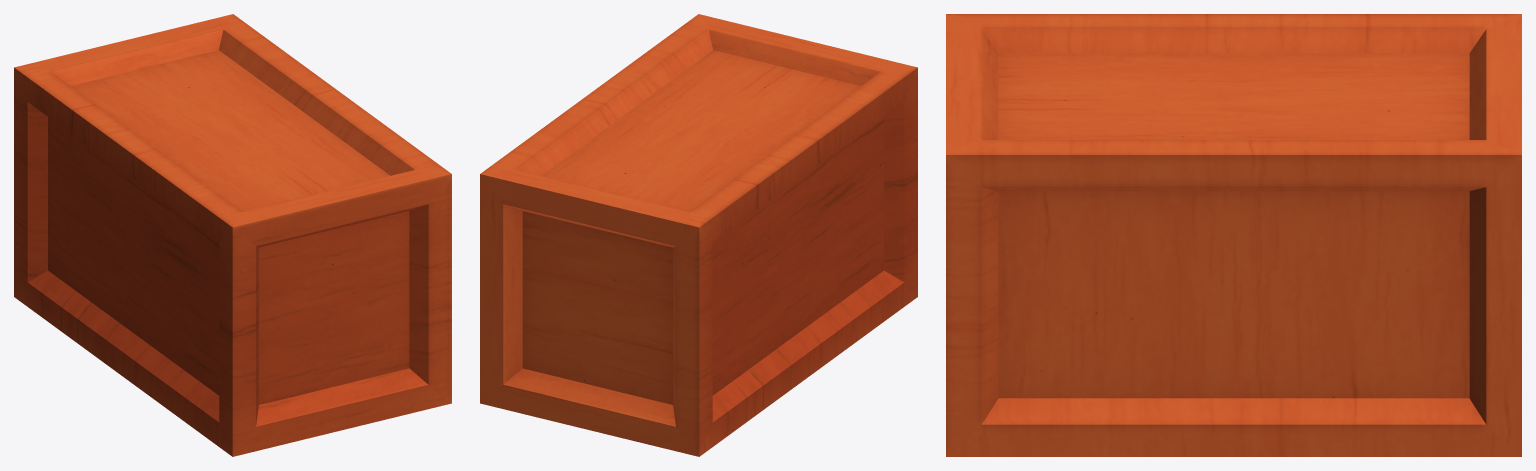
The model's file is woodBox02_02.fbx.
3 views of the same model, side by side, from view 1: azimuth 30°, elevation 25°; view 2: azimuth 150°, elevation 25°; view 3: azimuth 270°, elevation 25° (orthographic). The views are drawn at different scales.
Parts seen in each view (by area): view 1: polySurface181; view 2: polySurface181; view 3: polySurface181.
Boxes of the visible parts, x1,y1,x2,y2 form: polySurface181: (14,14,451,456); polySurface181: (480,14,917,456); polySurface181: (946,14,1521,456).
Bounding box in the file's own units: 10.09 × 10.09 × 17.42.
1 material, 1 textured.
